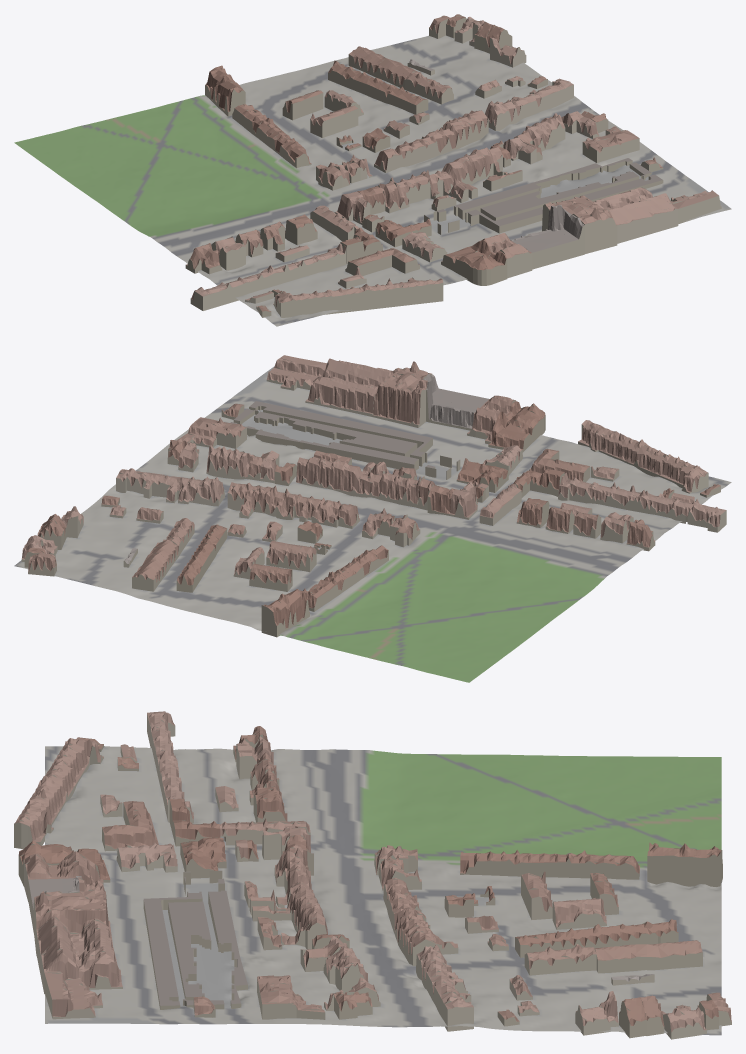
3 views of the same model, one above another, from view 1: azimuth 30°, elevation 25°; view 2: azimuth 150°, elevation 25°; view 3: azimuth 270°, elevation 25° (orthographic). The views are drawn at different scales.
Parts seen in each view (by area): view 1: ground, b:way/3986814, b:way/172305442, b:way/972910239, b:way/137027736, b:way/171900560, b:way/972913153, b:way/972910235, b:way/171900569, b:way/158062628, b:way/972910238, b:way/93900094 (+29 smaller); view 2: ground, b:way/3986814, b:way/972910239, b:way/137027736, b:way/171900560, b:way/172305442, b:way/972913153, b:way/972910238, b:way/171900569, b:way/158062015, b:way/972910235, b:way/93900094 (+25 smaller); view 3: ground, b:way/3986814, b:way/972913153, b:way/158062015, b:way/172305442, b:way/972910239, b:way/158062628, b:way/171900569, b:way/171900560, b:way/158062633, b:way/158062012, b:way/972910238 (+30 smaller).
Part boxes in pixels (x1=…): ground: x1=14, y1=35, x2=731, y2=326; b:way/3986814: x1=424, y1=158, x2=663, y2=234; b:way/172305442: x1=273, y1=277, x2=443, y2=317; b:way/972910239: x1=389, y1=147, x2=505, y2=209; b:way/137027736: x1=190, y1=243, x2=346, y2=310; b:way/171900560: x1=374, y1=110, x2=488, y2=172; b:way/972913153: x1=593, y1=187, x2=678, y2=243; b:way/972910235: x1=510, y1=205, x2=584, y2=269; b:way/171900569: x1=485, y1=78, x2=573, y2=130; b:way/158062628: x1=328, y1=60, x2=428, y2=114; b:way/972910238: x1=542, y1=195, x2=617, y2=253; b:way/93900094: x1=441, y1=239, x2=507, y2=285; ground: x1=14, y1=366, x2=731, y2=682; b:way/3986814: x1=230, y1=401, x2=460, y2=479; b:way/972910239: x1=296, y1=457, x2=424, y2=507; b:way/137027736: x1=558, y1=472, x2=726, y2=532; b:way/171900560: x1=227, y1=482, x2=359, y2=528; b:way/172305442: x1=578, y1=420, x2=708, y2=493; b:way/972913153: x1=305, y1=358, x2=391, y2=416; b:way/972910238: x1=372, y1=361, x2=432, y2=427; b:way/171900569: x1=116, y1=468, x2=224, y2=506; b:way/158062015: x1=306, y1=545, x2=388, y2=611; b:way/972910235: x1=417, y1=374, x2=488, y2=430; b:way/93900094: x1=488, y1=401, x2=545, y2=452; ground: x1=45, y1=746, x2=721, y2=1035; b:way/3986814: x1=143, y1=870, x2=247, y2=1009; b:way/972913153: x1=36, y1=916, x2=122, y2=994; b:way/158062015: x1=460, y1=850, x2=639, y2=879; b:way/172305442: x1=14, y1=738, x2=103, y2=848; b:way/972910239: x1=249, y1=848, x2=327, y2=949; b:way/158062628: x1=515, y1=919, x2=678, y2=957; b:way/171900569: x1=416, y1=944, x2=473, y2=1031; b:way/171900560: x1=383, y1=878, x2=458, y2=965; b:way/158062633: x1=594, y1=940, x2=702, y2=973; b:way/158062012: x1=647, y1=842, x2=722, y2=886; b:way/972910238: x1=34, y1=877, x2=112, y2=955.
Bounding box in the file's own units: 274 × 27.22 × 265.
